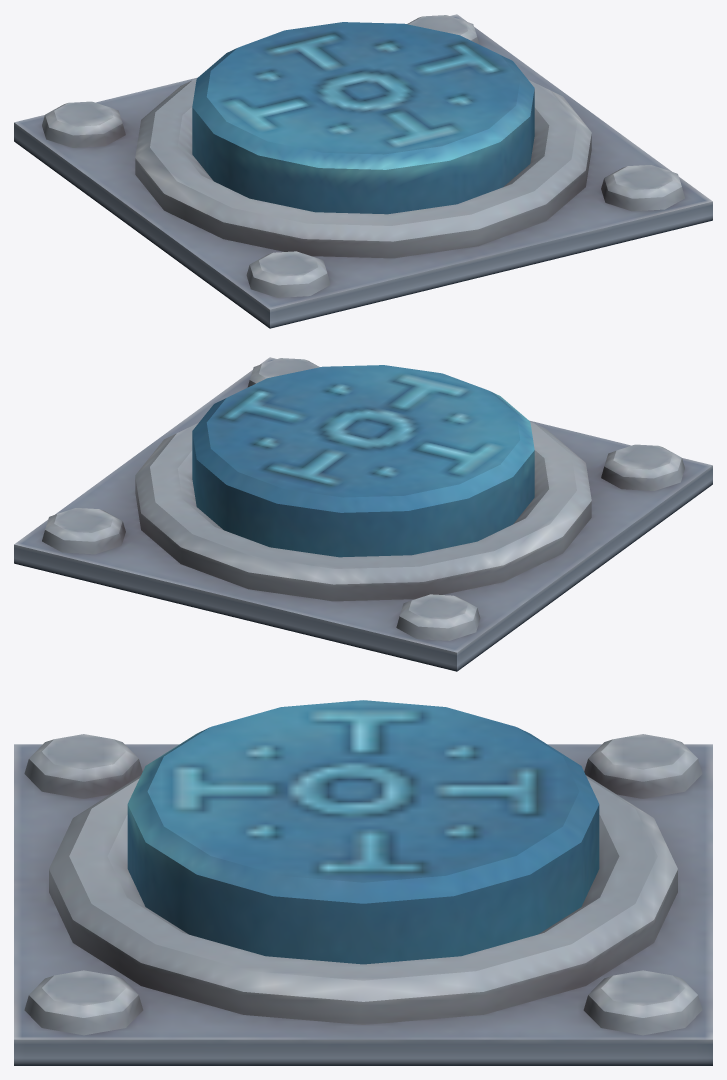
File: Floor Sswitch Blue 1.fbx
3 views of the same model, one above another, from view 1: azimuth 30°, elevation 25°; view 2: azimuth 150°, elevation 25°; view 3: azimuth 270°, elevation 25° (orthographic). The views are drawn at different scales.
Visible parts, largest first — view 1: box, switch1; view 2: box, switch1; view 3: box, switch1.
Part boxes in pixels (x1,y1,x2,y2): box: [14, 14, 712, 328]; switch1: [192, 22, 534, 214]; box: [14, 357, 712, 671]; switch1: [192, 365, 534, 557]; box: [14, 734, 712, 1065]; switch1: [127, 700, 599, 964].
Bounding box in the file's own units: 1 × 0.2 × 1.
